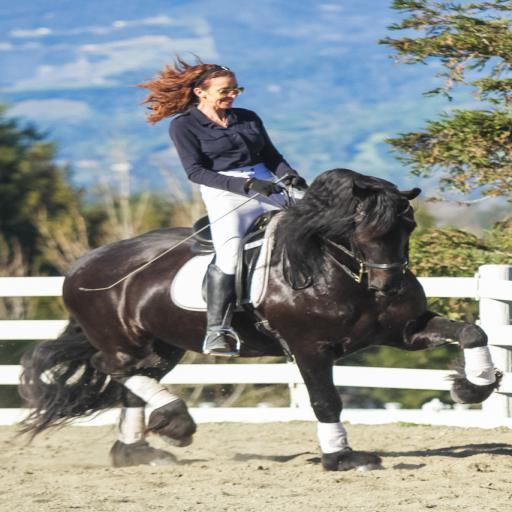horse: (13, 168, 507, 474)
